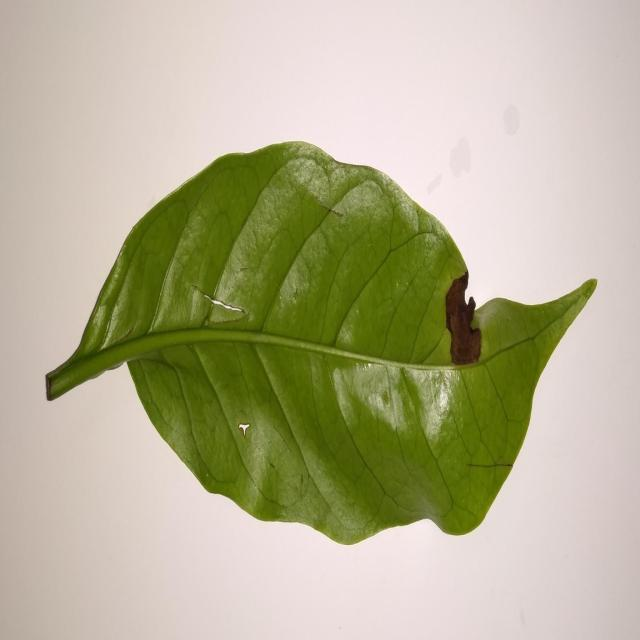Enfermedad-Antracnosis: (43, 141, 598, 548)
